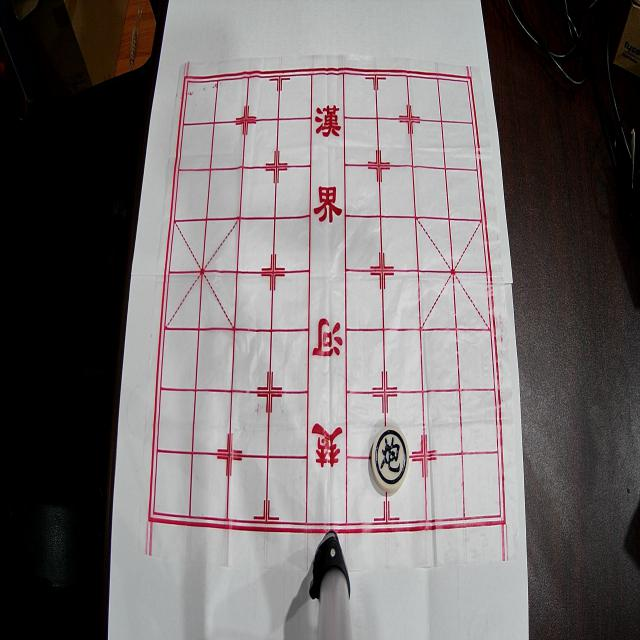black-cannon: (371, 426, 409, 492)
